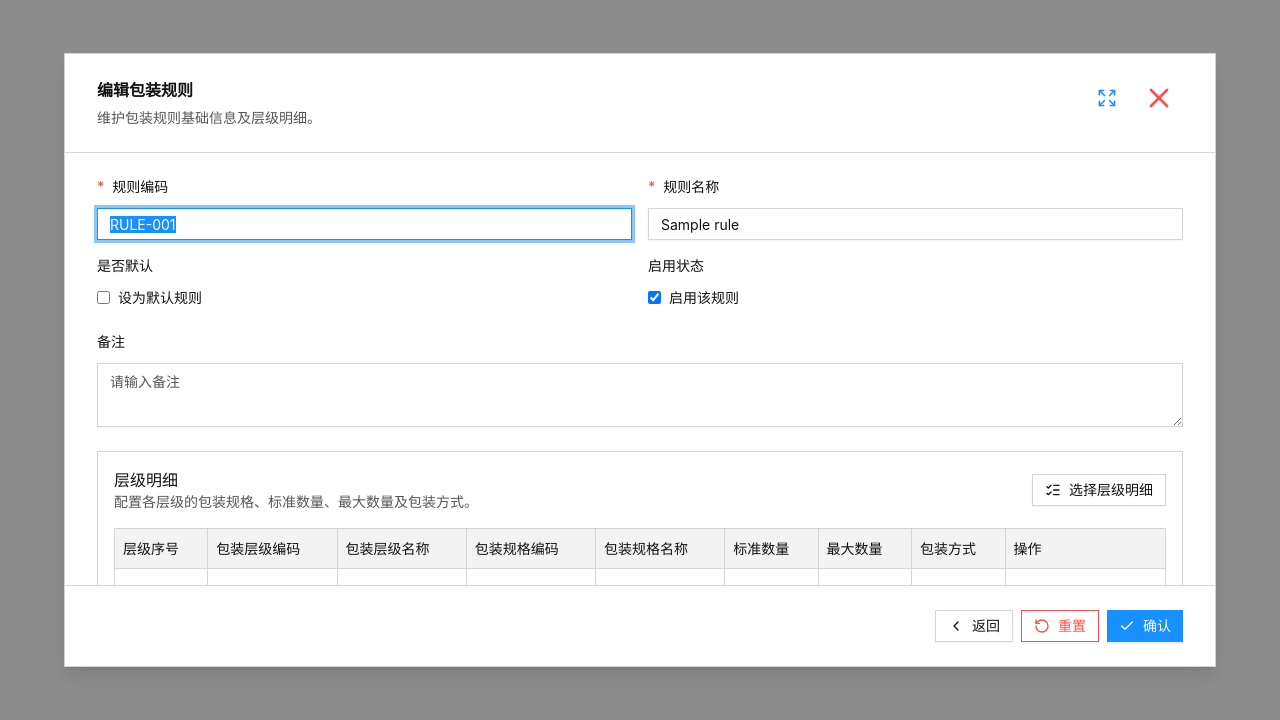
Test: PackagingRuleFormDialog › opens the level dialog after confirming replacement
Click the button with test id "packaging-rule-form-select-details".
click(1099, 490)  # box x1=1032 y1=474 x2=1166 y2=506
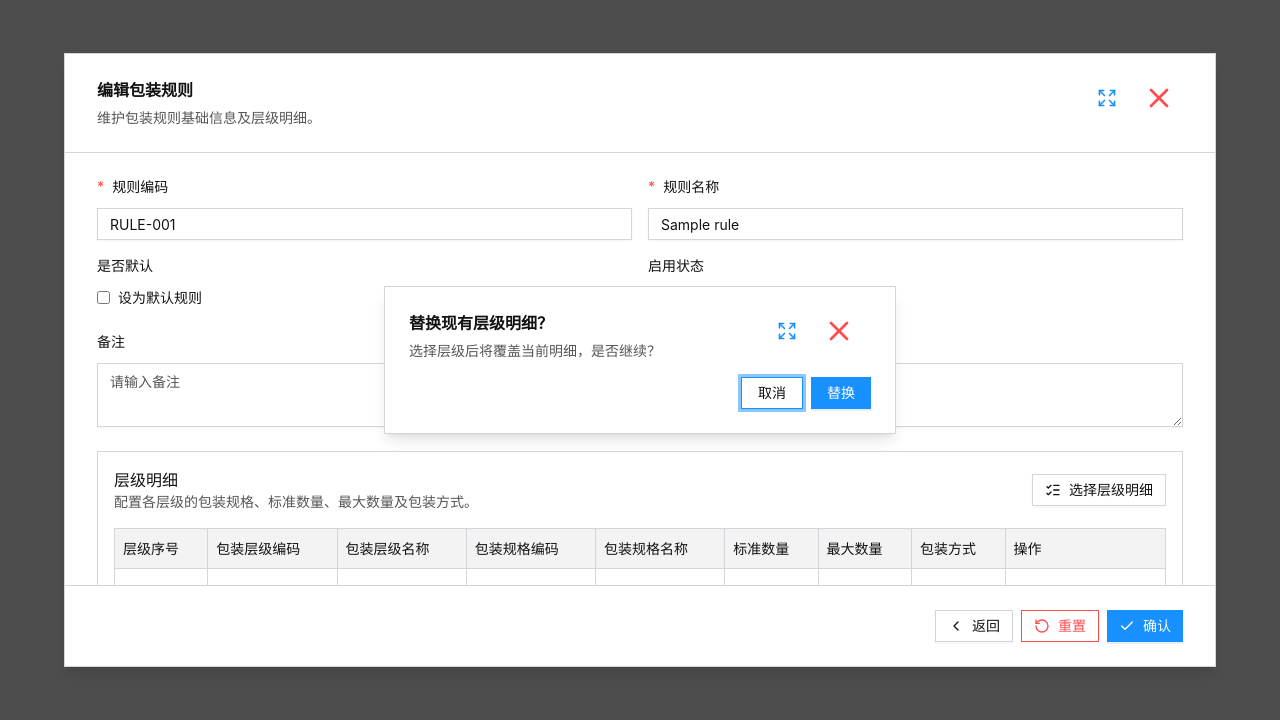
Click the button with test id "packaging-rule-replace-details-confirm".
click(841, 393)  # box x1=811 y1=377 x2=871 y2=409
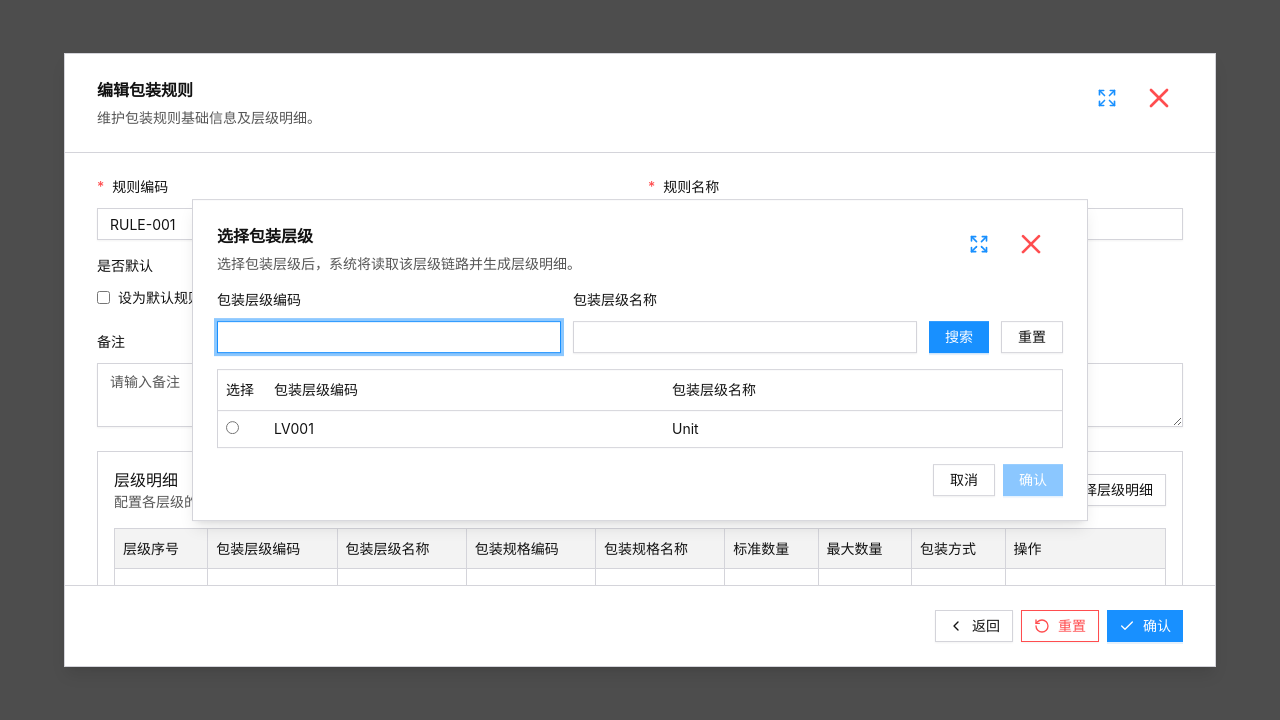
Check: the dialog with test id "packaging-rule-replace-details-dialog" is gone
Check: the dialog with test id "packaging-rule-level-dialog" is shown, box x1=192 y1=199 x2=1088 y2=521
